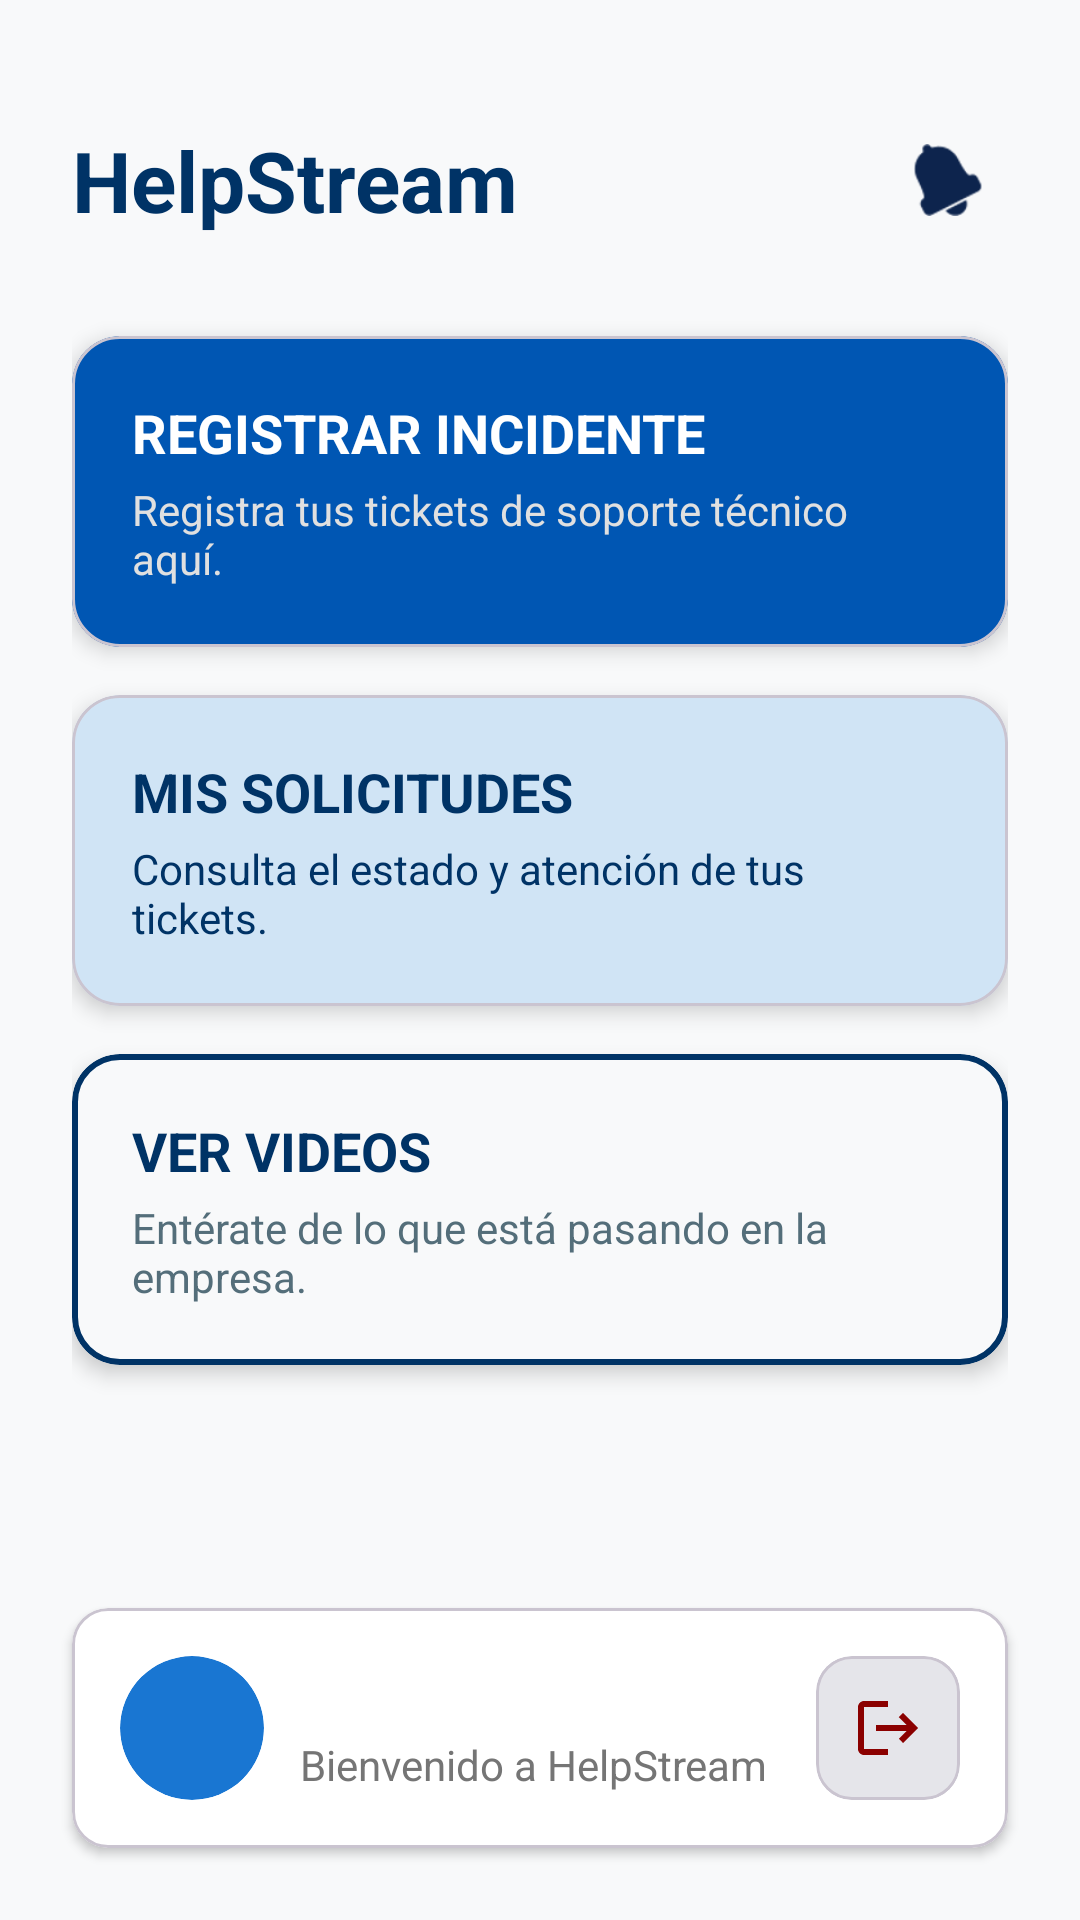

Icons on this 1080 × 1920 Android screen, each with its box as (x1, y1, x2, y2):
popup reminder: (914, 144, 982, 216)
